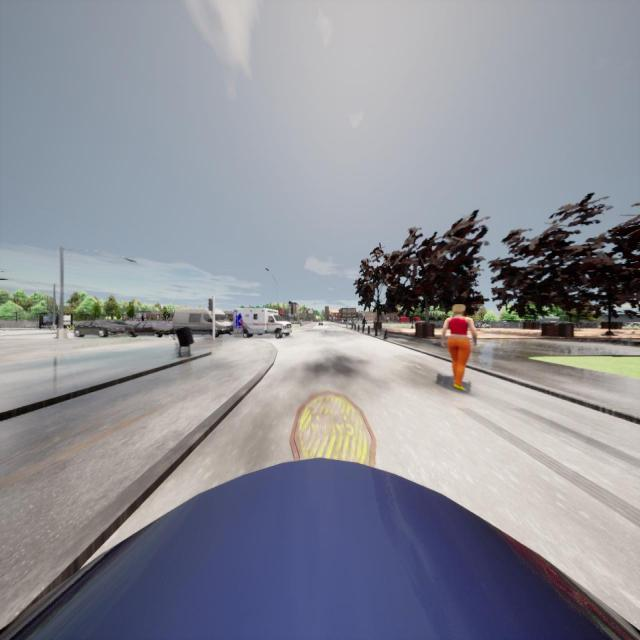Pedestrian: (442, 303, 476, 392), (361, 316, 367, 333)
Vehicle: (0, 458, 640, 640), (172, 307, 232, 338), (233, 309, 292, 339), (74, 318, 127, 338), (127, 320, 171, 338), (318, 320, 324, 326)
traffic_light: (208, 299, 213, 311)
